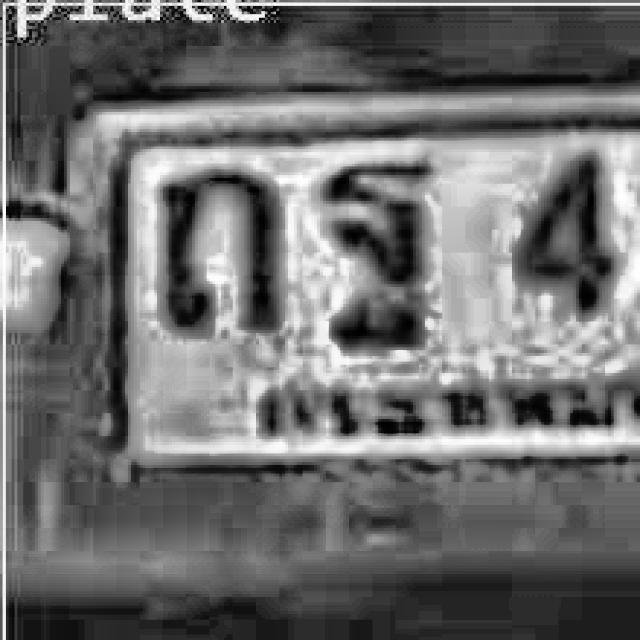license-plate: (61, 60, 640, 548)
